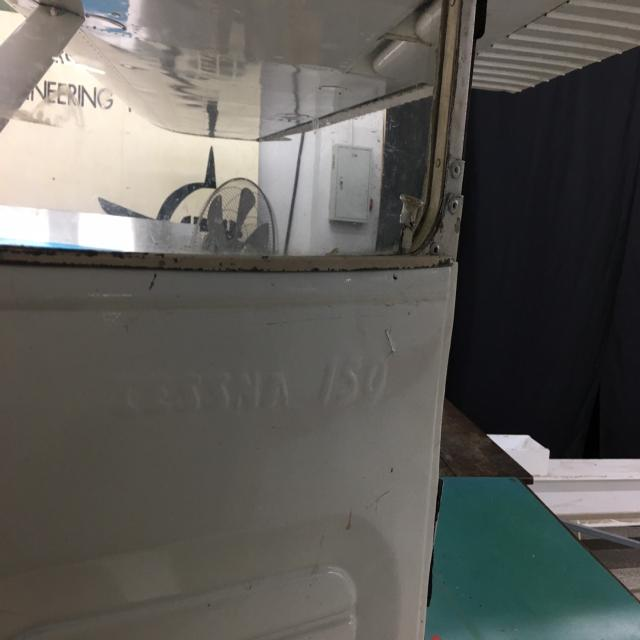Rupture: (32, 255, 454, 282), (370, 320, 403, 367)
